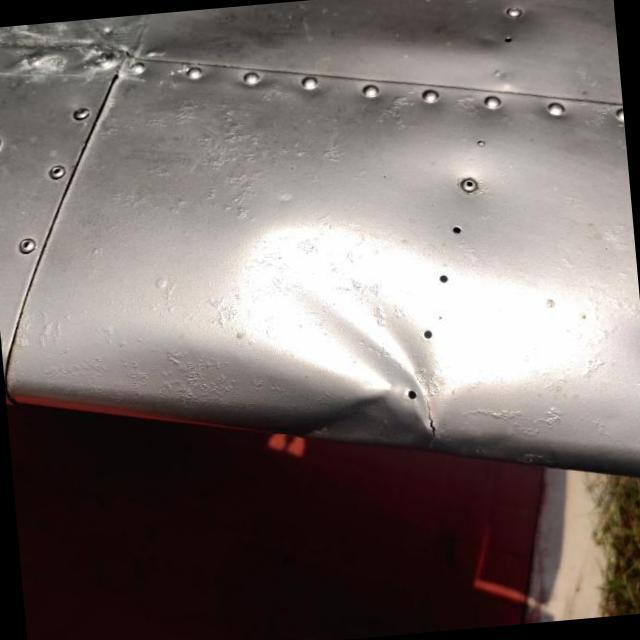Missing Fastener: (414, 318, 442, 344), (428, 265, 458, 289), (493, 24, 521, 48), (395, 379, 421, 401), (440, 220, 470, 238)
dent: (222, 224, 458, 444)
